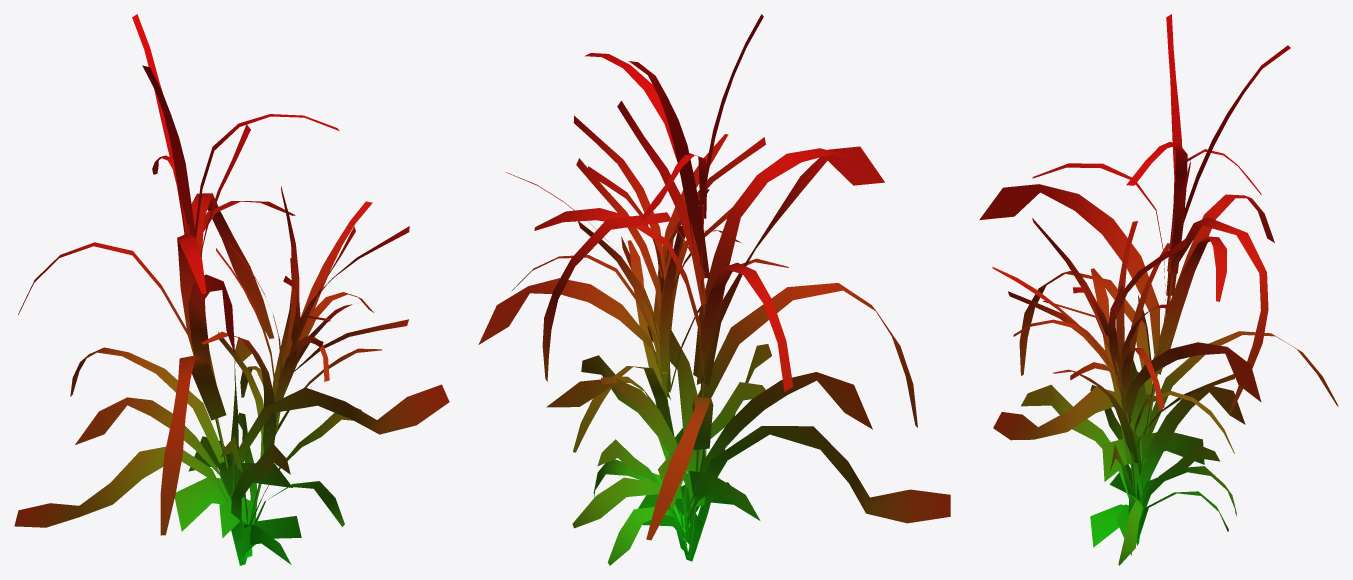
Rendered from Var7_LOD1.fbx.
3 views of the same model, side by side, from view 1: azimuth 30°, elevation 25°; view 2: azimuth 150°, elevation 25°; view 3: azimuth 270°, elevation 25° (orthographic). The views are drawn at different scales.
Visible parts, largest first — view 1: _9cd2_Var7_LOD1; view 2: _9cd2_Var7_LOD1; view 3: _9cd2_Var7_LOD1.
Boxes of the visible parts, bbox=[...] form: _9cd2_Var7_LOD1: bbox=[14, 14, 449, 565]; _9cd2_Var7_LOD1: bbox=[478, 14, 950, 565]; _9cd2_Var7_LOD1: bbox=[979, 14, 1338, 565].
Bounding box in the file's own units: 32.56 × 42.2 × 27.96.
